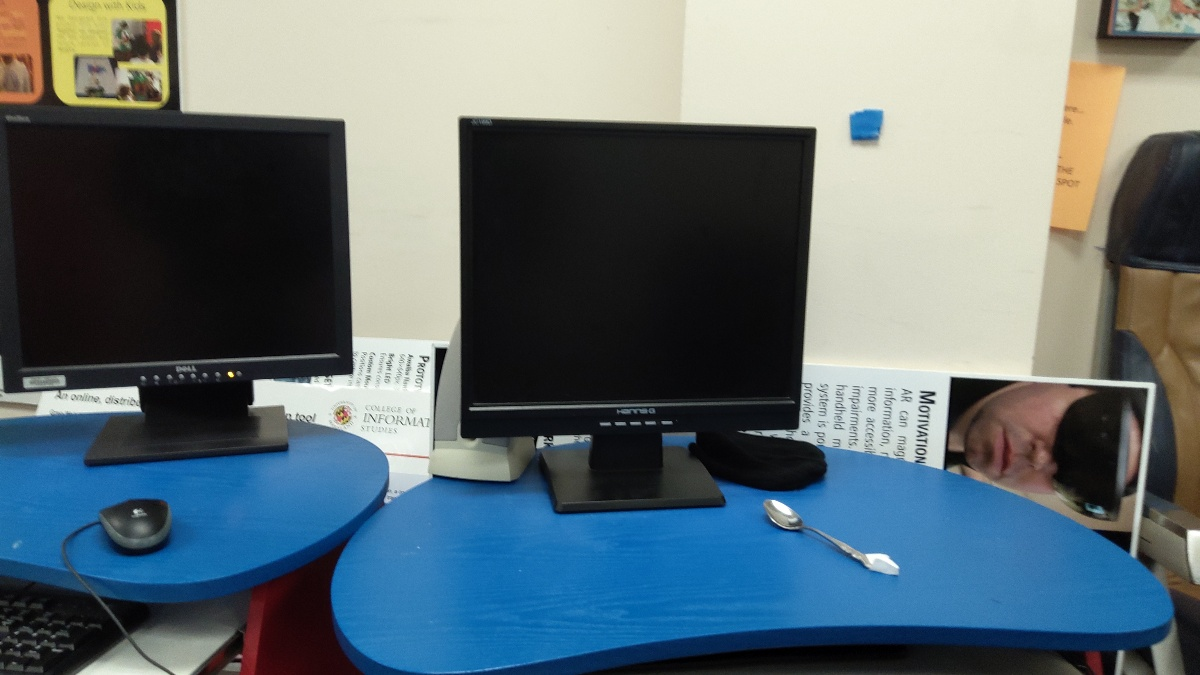monitor: (450, 113, 822, 436)
